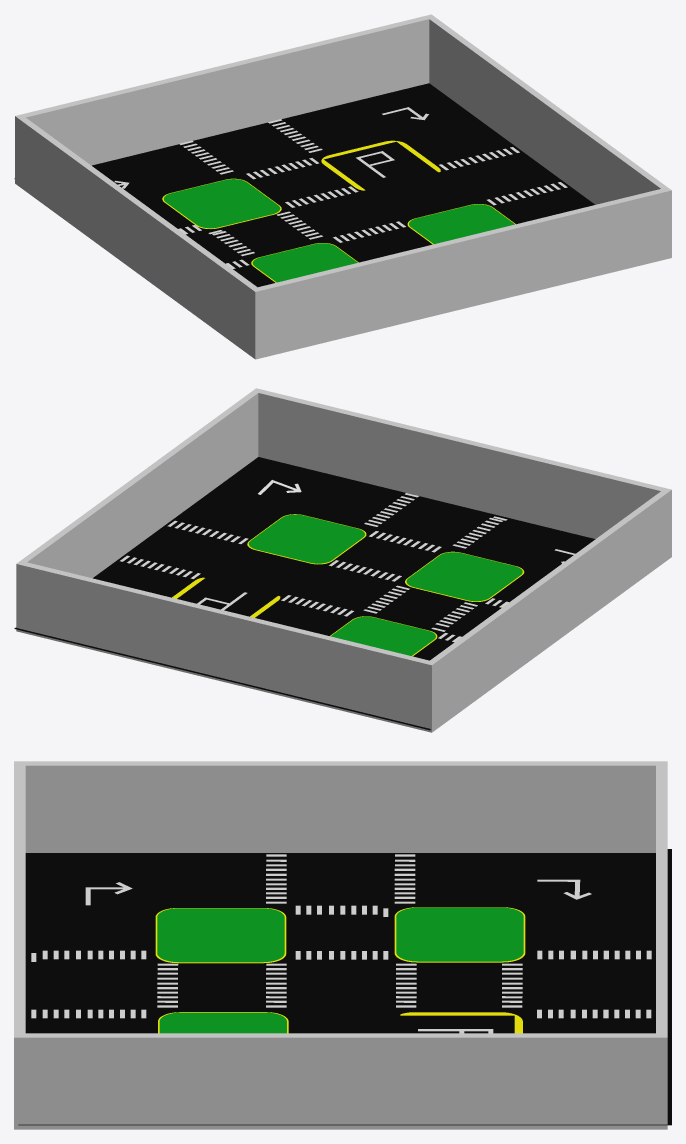
File: track_lab.dae
3 views of the same model, one above another, from view 1: azimuth 30°, elevation 25°; view 2: azimuth 150°, elevation 25°; view 3: azimuth 270°, elevation 25° (orthographic). The views are drawn at different scales.
Visible parts, largest first — view 1: Cube, Aphalt, Plane, Plane.158, Plane.157, Plane.101; view 2: Cube, Aphalt, Plane.157, Plane.158, Plane; view 3: Cube, Aphalt, Plane, Plane.157, Plane.158, Plane.156, Plane.099, Plane.101.
Part boxes in pixels (box(x1,y1,x2,y2)): Cube: box(15, 14, 671, 359); Aphalt: box(14, 83, 594, 287); Plane: box(164, 179, 280, 228); Plane.158: box(409, 204, 514, 244); Plane.157: box(252, 243, 357, 282); Plane.101: box(321, 140, 440, 190); Cube: box(16, 388, 671, 732); Aphalt: box(14, 457, 595, 730); Plane.157: box(406, 552, 522, 601); Plane.158: box(248, 514, 364, 563); Plane: box(331, 616, 435, 655); Cube: box(14, 761, 667, 1129); Aphalt: box(18, 849, 671, 1125); Plane: box(396, 907, 523, 961); Plane.157: box(157, 908, 284, 962); Plane.158: box(159, 1012, 286, 1033); Plane.156: box(394, 907, 525, 962); Plane.099: box(155, 908, 286, 963); Plane.101: box(400, 1012, 522, 1033).
Size of the model in its own units: 2 by 2.01 by 0.31.
